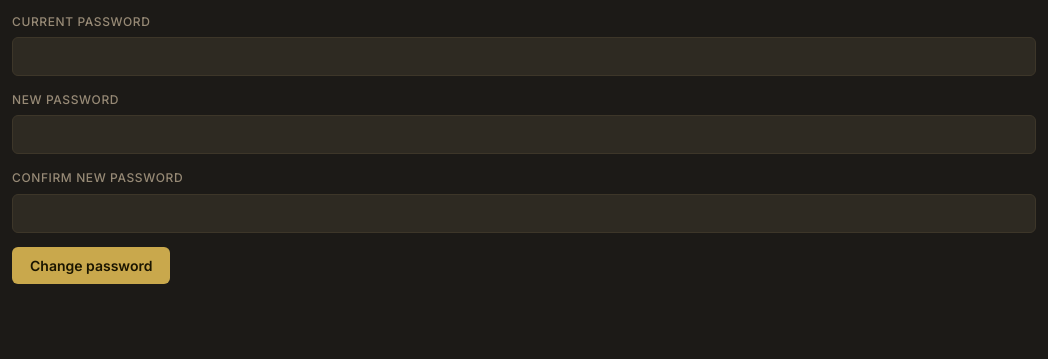
Test: ChangePasswordForm › sends the current and new password, then says it worked
Type "the old password 1" into the password field labelled "Current password" at [524, 57], box top-left (12, 37), bottom-right (1036, 76)
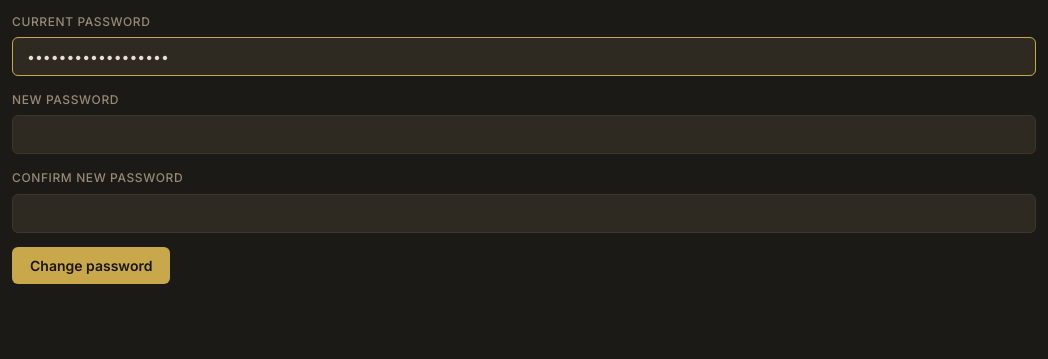
Type "a brand new password 2" into the password field labelled "New password" at [524, 135], box top-left (12, 115), bottom-right (1036, 154)
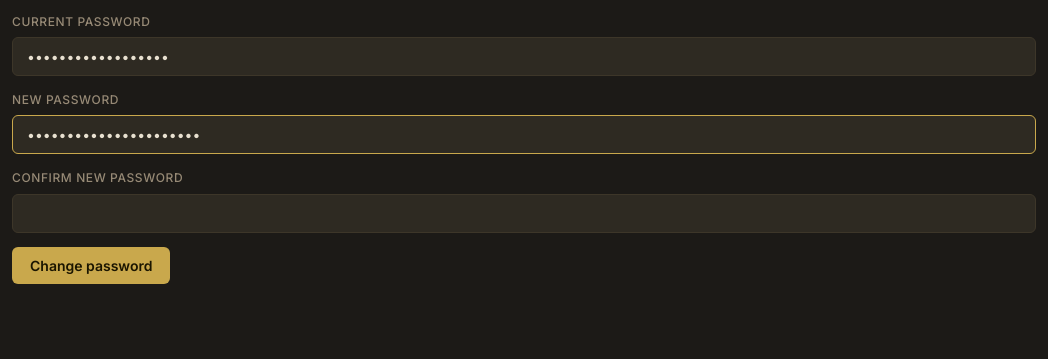
Type "a brand new password 2" into the password field labelled "Confirm new password" at [524, 213], box top-left (12, 194), bottom-right (1036, 233)
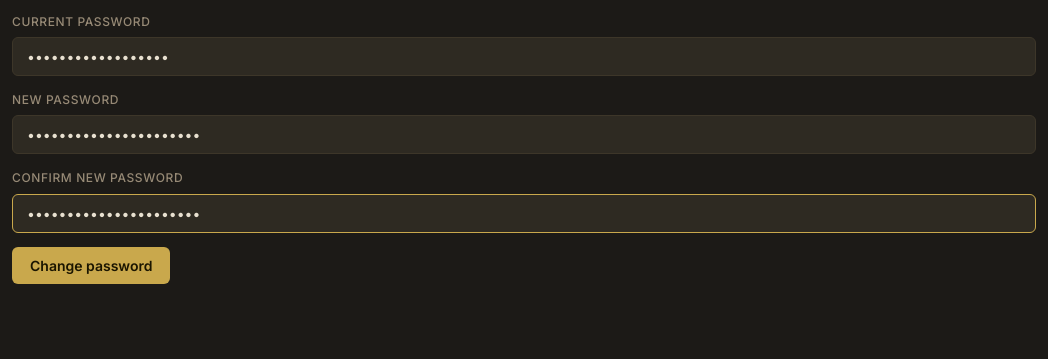
Click the button "Change password" at [91, 265], box top-left (12, 247), bottom-right (170, 284)
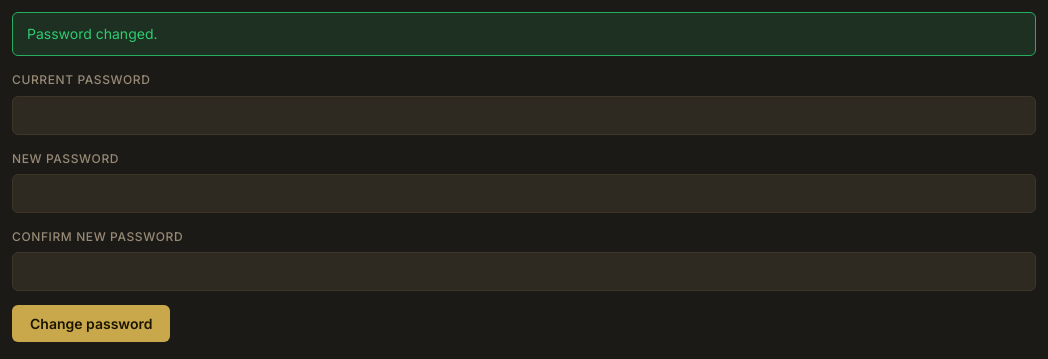
Now the text "Password changed." is shown, box top-left (12, 12), bottom-right (1036, 56)
